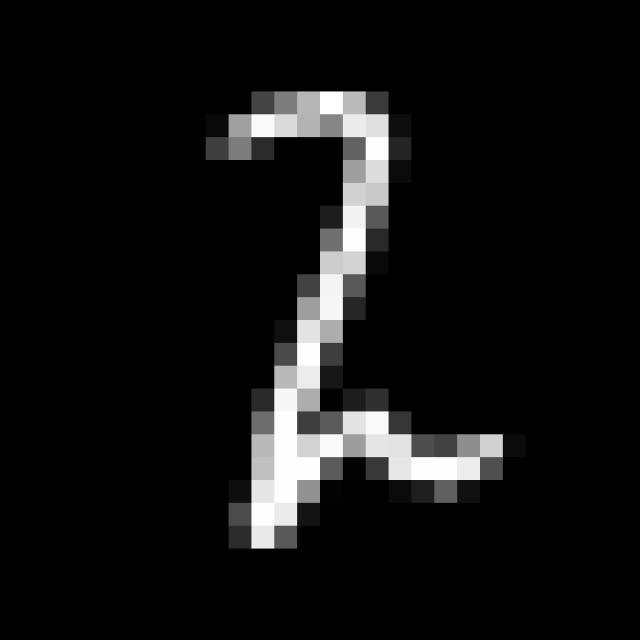two -2-: (194, 73, 524, 559)
